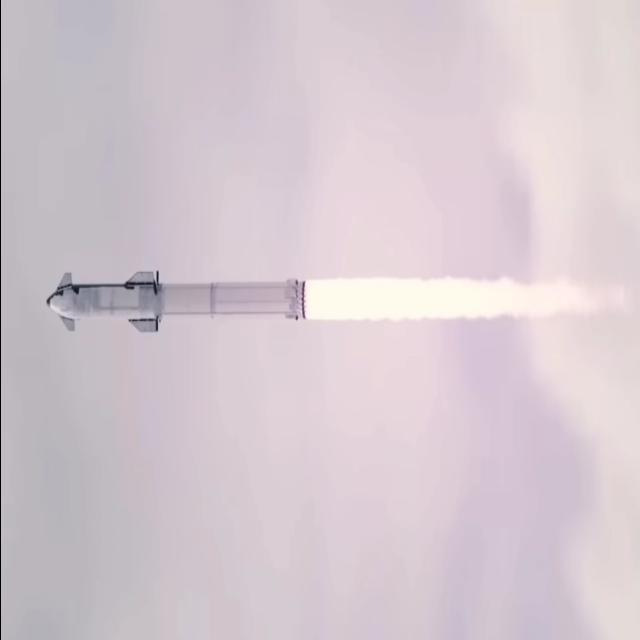missile: (44, 269, 306, 334)
